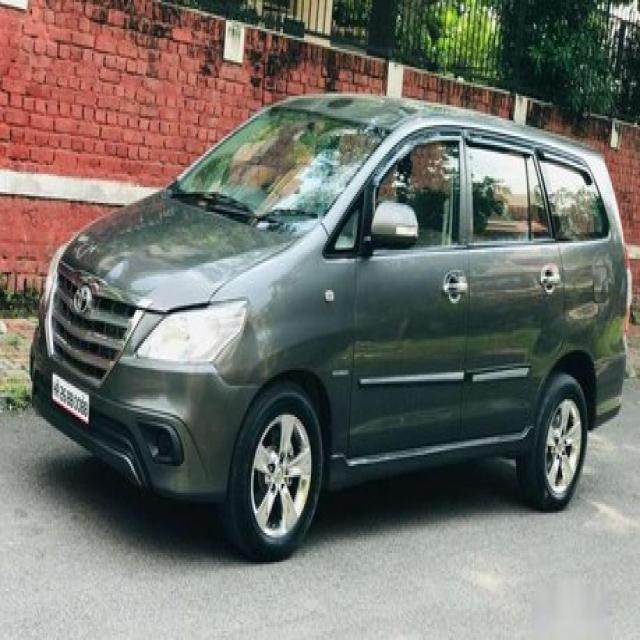light_vehicle: (29, 90, 632, 561)
